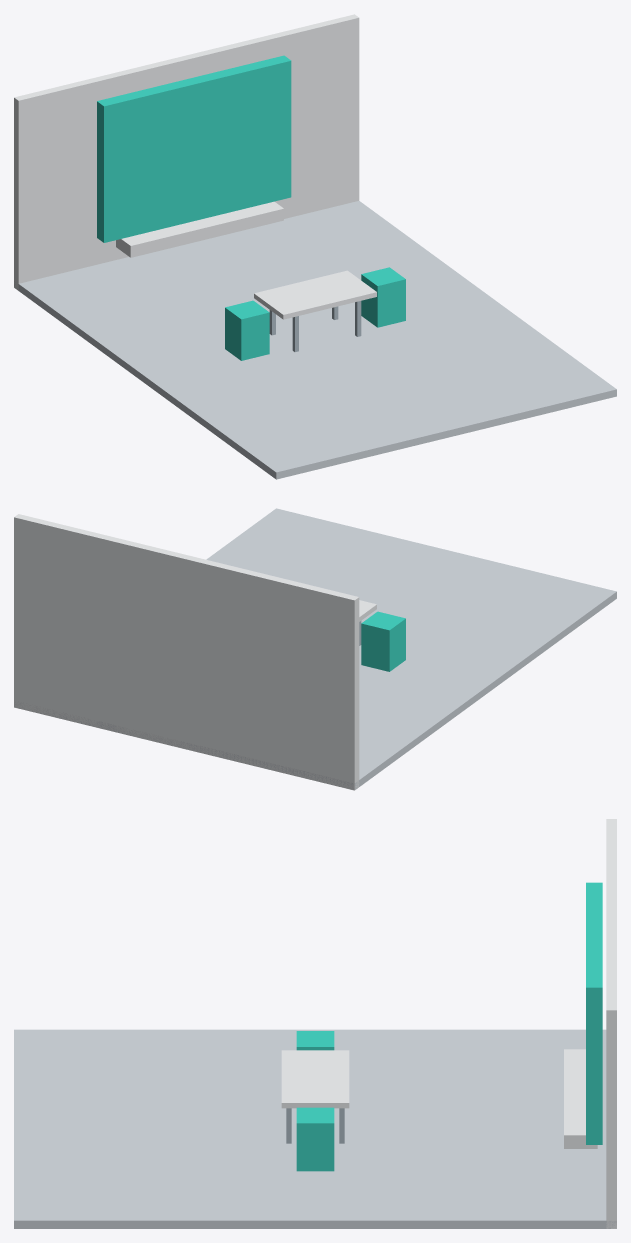
The picture shows the model from 3 angles, top to bottom: view 1: azimuth 30°, elevation 25°; view 2: azimuth 150°, elevation 25°; view 3: azimuth 270°, elevation 25°; orthographic projection. The views are drawn at different scales.
Parts seen in each view (by area): view 1: Exhibition Booth Concept; view 2: Exhibition Booth Concept; view 3: Exhibition Booth Concept.
Boxes of the visible parts, x1=… form: Exhibition Booth Concept: x1=14, y1=14, x2=616, y2=479; Exhibition Booth Concept: x1=14, y1=508, x2=616, y2=790; Exhibition Booth Concept: x1=14, y1=819, x2=616, y2=1228.
Size of the model in its own units: 6 by 3.2 by 8.
